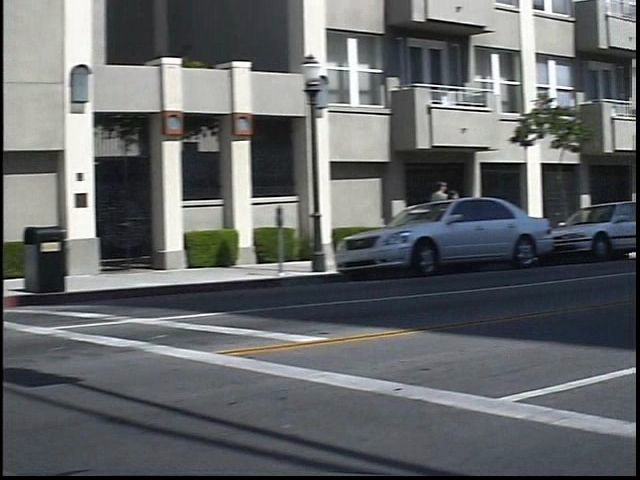person: (440, 177, 464, 252), (459, 185, 479, 247)
